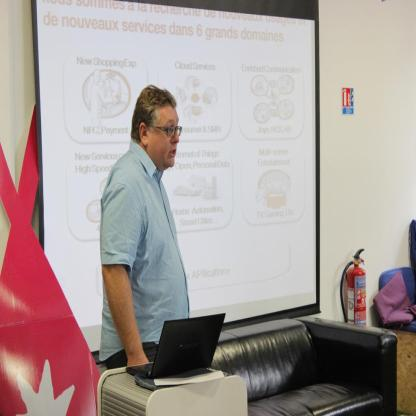board: (110, 313, 243, 397), (341, 249, 366, 329)
